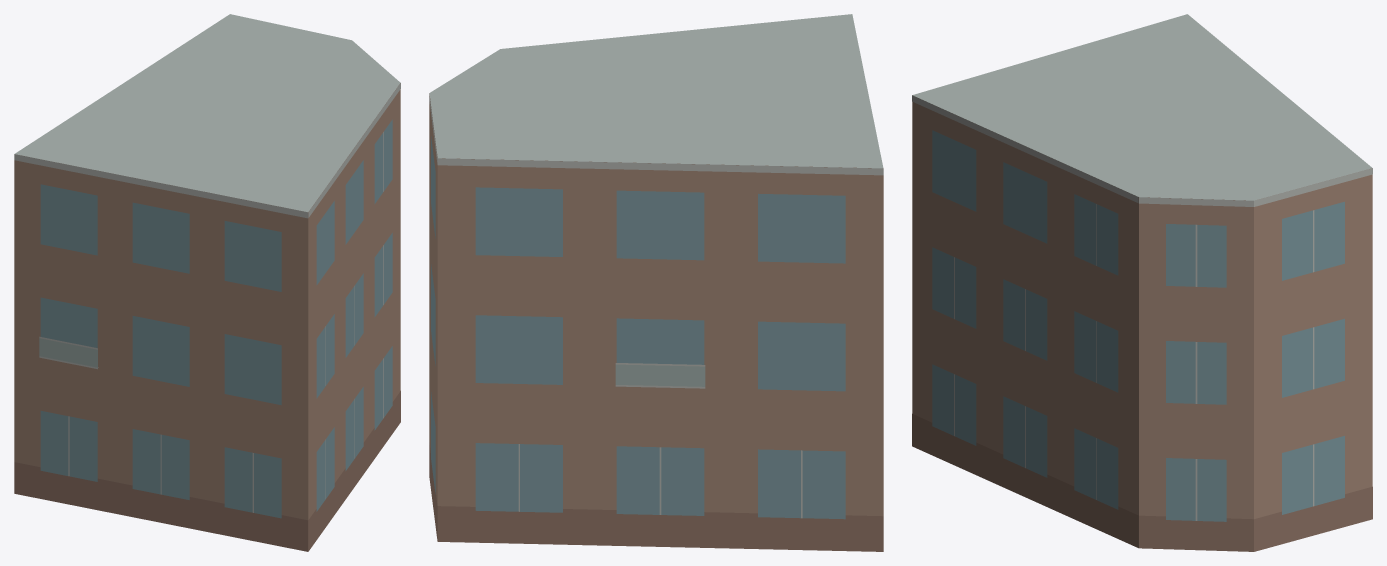
File: survey-upis-32671387.glb
The picture shows the model from 3 angles, left to right: view 1: azimuth 30°, elevation 25°; view 2: azimuth 150°, elevation 25°; view 3: azimuth 270°, elevation 25°; orthographic projection. The views are drawn at different scales.
Parts seen in each view (by area): view 1: survey-upis-32671387.tmp; view 2: survey-upis-32671387.tmp; view 3: survey-upis-32671387.tmp.
Part boxes in pixels (x1,y1,x2,y2): survey-upis-32671387.tmp: (14, 14, 400, 551); survey-upis-32671387.tmp: (429, 14, 883, 551); survey-upis-32671387.tmp: (912, 14, 1372, 551).
Size of the model in its own units: 15.29 by 13.4 by 15.94.
